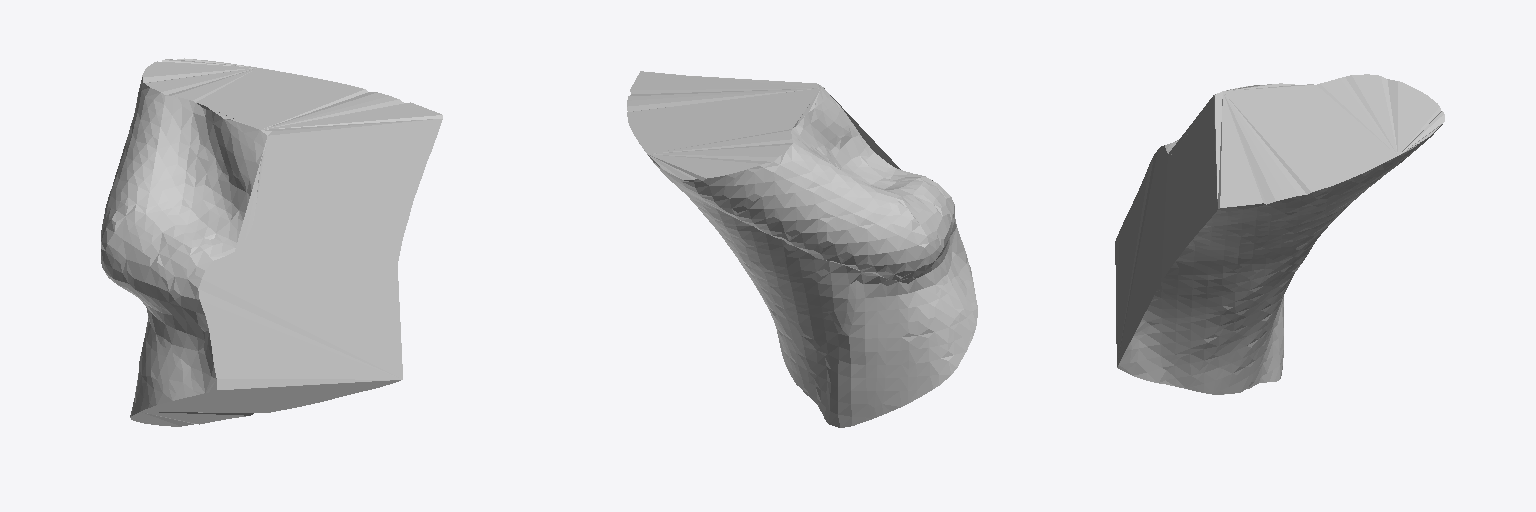
The model's file is low_cell_080.obj.
3 renders of one model, left to right at view 1: azimuth 30°, elevation 25°; view 2: azimuth 150°, elevation 25°; view 3: azimuth 270°, elevation 25°, orthographic.
Visible parts, largest first — view 1: low_cell.080_low_cell.079; view 2: low_cell.080_low_cell.079; view 3: low_cell.080_low_cell.079.
Boxes of the visible parts, x1,y1,x2,y2 form: low_cell.080_low_cell.079: [101, 58, 442, 426]; low_cell.080_low_cell.079: [627, 71, 977, 427]; low_cell.080_low_cell.079: [1115, 74, 1444, 394].
Bounding box in the file's own units: 0.4891 × 0.456 × 0.4437.